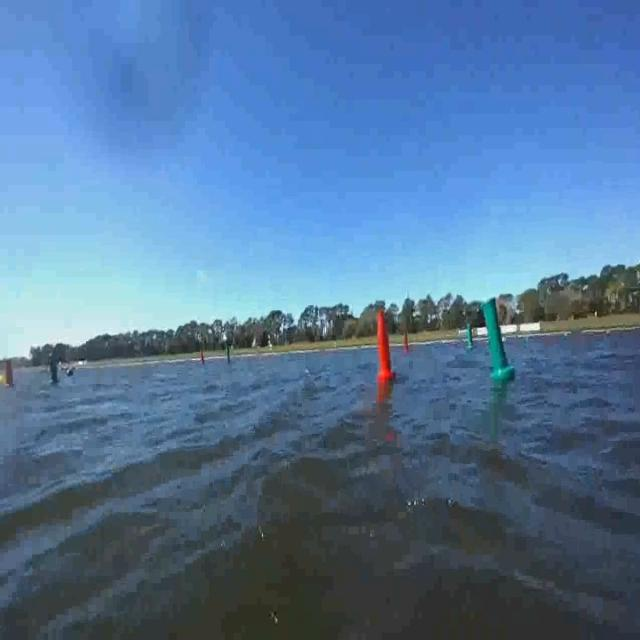black-buoy: (67, 366, 75, 376)
green-column-buoy: (483, 298, 516, 382), (46, 350, 60, 388), (468, 325, 477, 352), (224, 343, 232, 365)
red-column-buoy: (376, 308, 395, 382), (2, 356, 16, 388), (405, 335, 412, 356), (200, 347, 207, 365)
